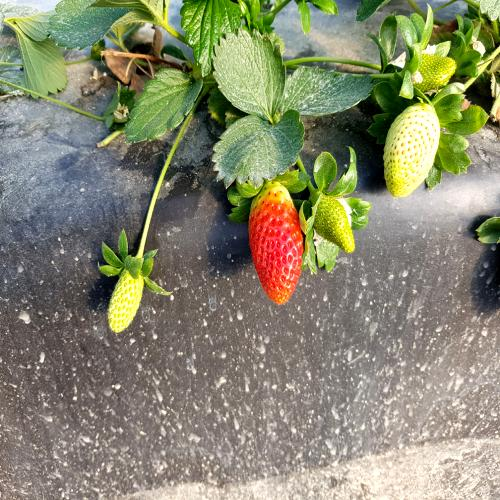partially-ripe: (239, 175, 307, 313)
unripe: (378, 93, 444, 203)
